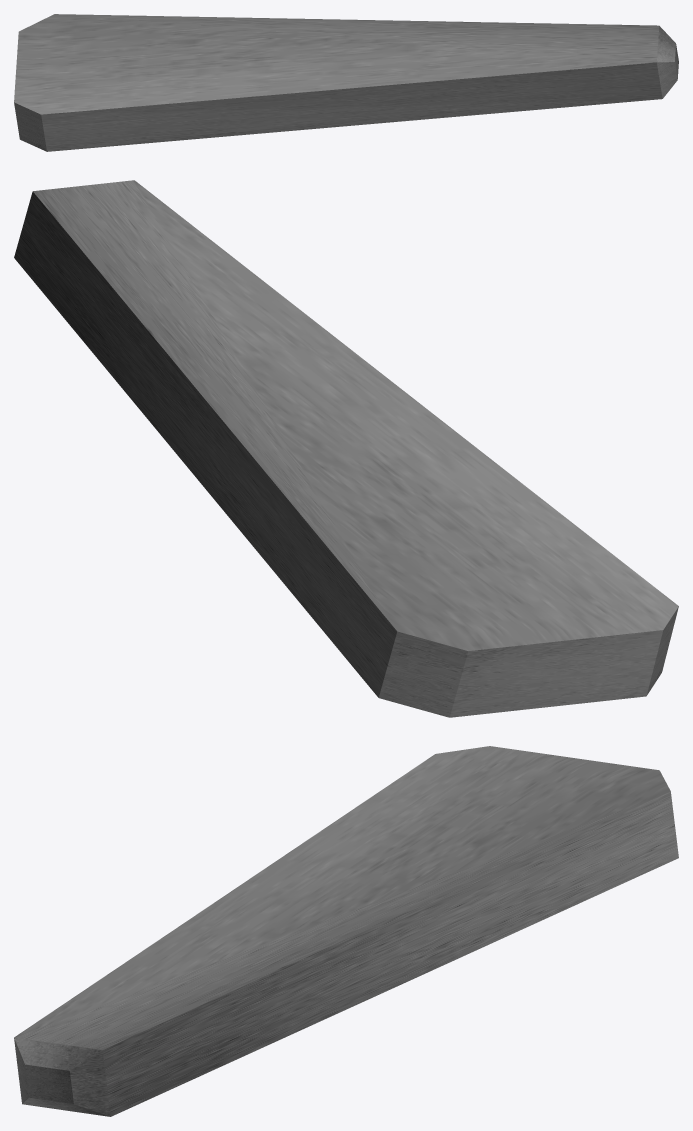
File: Flipper_Izquierdo.obj
3 views of the same model, one above another, from view 1: azimuth 30°, elevation 25°; view 2: azimuth 150°, elevation 25°; view 3: azimuth 270°, elevation 25° (orthographic). The views are drawn at different scales.
Parts seen in each view (by area): view 1: Rflipper; view 2: Rflipper; view 3: Rflipper.
Boxes of the visible parts, x1,y1,x2,y2 form: Rflipper: (14, 14, 678, 151); Rflipper: (14, 180, 678, 717); Rflipper: (14, 746, 678, 1116).
Size of the model in its own units: 16.39 by 2.64 by 12.1.
